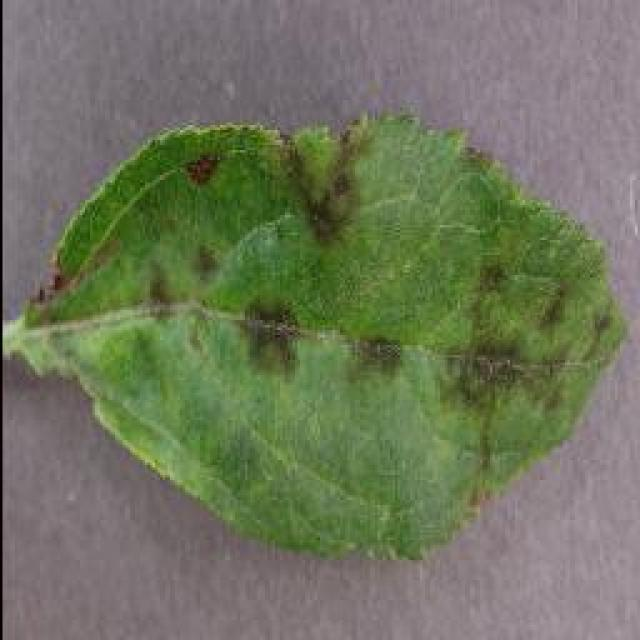apple scab disease: (5, 108, 627, 562)
